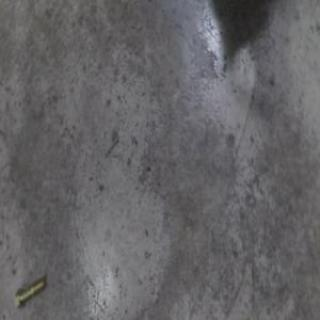Bolttrack_idkeyframe: (15, 276, 44, 307)
